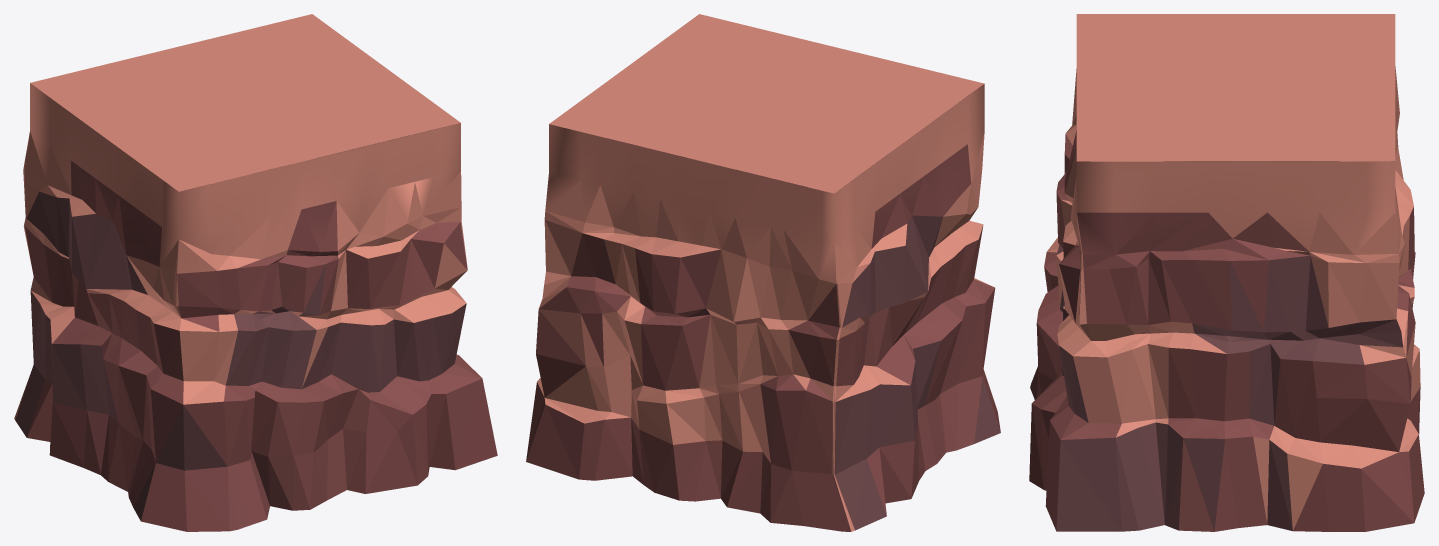
The model's file is Canyon_Pillar.fbx.
3 renders of one model, left to right at view 1: azimuth 30°, elevation 25°; view 2: azimuth 150°, elevation 25°; view 3: azimuth 270°, elevation 25°, orthographic. The views are drawn at different scales.
Parts seen in each view (by area): view 1: Canyon; view 2: Canyon; view 3: Canyon.
Boxes of the visible parts, x1,y1,x2,y2 form: Canyon: (14, 14, 497, 531); Canyon: (526, 14, 1000, 531); Canyon: (1029, 14, 1424, 531).
Size of the model in its own units: 2551 by 2377 by 2392.
